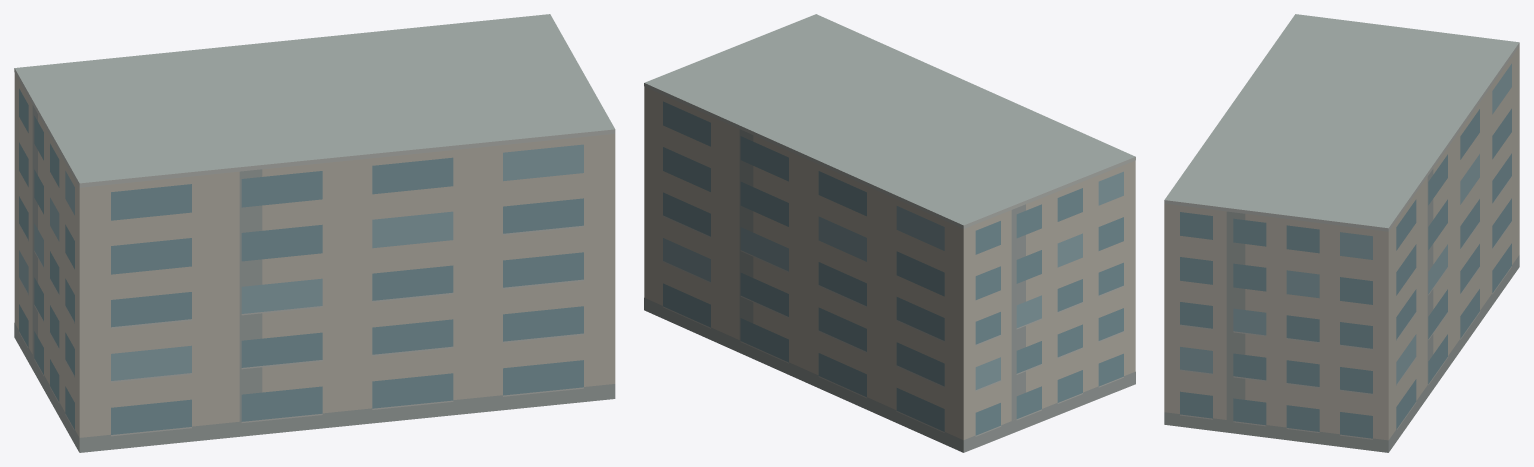
Rendered from residential-f174ea4a-bc17-4936-8847-580b03bcbbdd.glb.
3 renders of one model, left to right at view 1: azimuth 30°, elevation 25°; view 2: azimuth 150°, elevation 25°; view 3: azimuth 270°, elevation 25°, orthographic. The views are drawn at different scales.
Parts seen in each view (by area): view 1: residential-f174ea4a-bc17-4936-8847-580b03bcbbdd.tmp; view 2: residential-f174ea4a-bc17-4936-8847-580b03bcbbdd.tmp; view 3: residential-f174ea4a-bc17-4936-8847-580b03bcbbdd.tmp.
Boxes of the visible parts, bbox=[...] form: residential-f174ea4a-bc17-4936-8847-580b03bcbbdd.tmp: bbox=[14, 14, 615, 452]; residential-f174ea4a-bc17-4936-8847-580b03bcbbdd.tmp: bbox=[644, 14, 1135, 452]; residential-f174ea4a-bc17-4936-8847-580b03bcbbdd.tmp: bbox=[1164, 14, 1519, 452].
Size of the model in its own units: 31.19 by 15.25 by 21.86.
